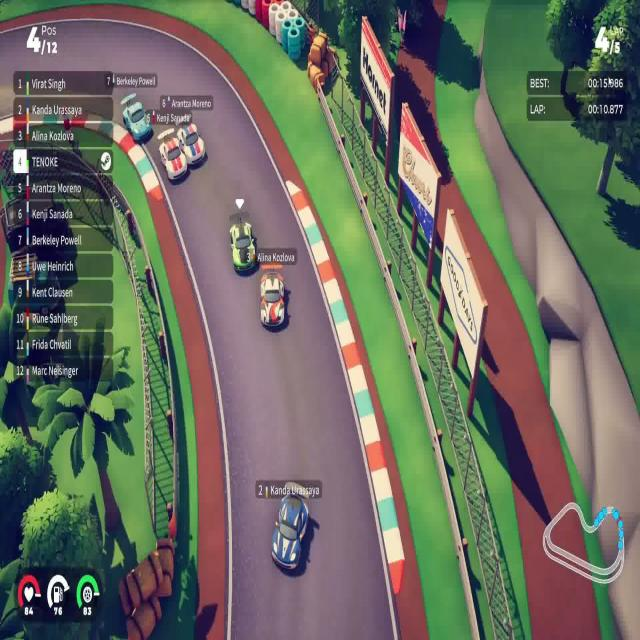car: (270, 492, 309, 571), (259, 270, 285, 330), (229, 218, 257, 273), (158, 136, 188, 182), (122, 99, 152, 143), (176, 121, 205, 166)
